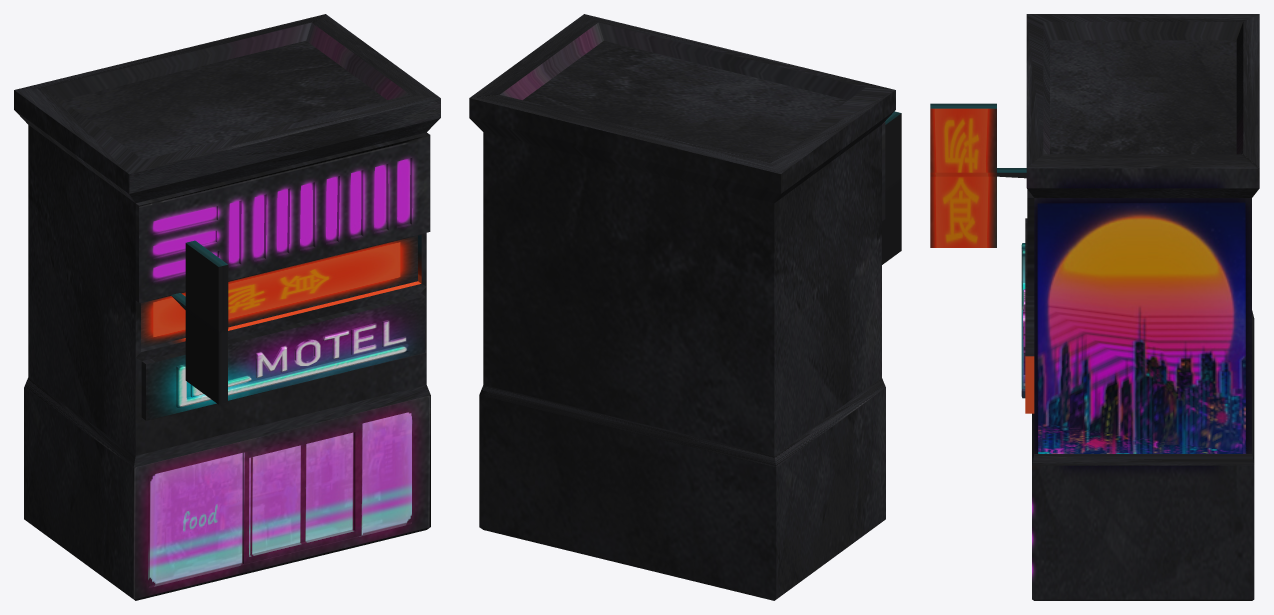
File: Building01.obj
3 renders of one model, left to right at view 1: azimuth 30°, elevation 25°; view 2: azimuth 150°, elevation 25°; view 3: azimuth 270°, elevation 25°, orthographic.
Visible parts, largest first — view 1: Cube; view 2: Cube; view 3: Cube.
Part boxes in pixels (x1,y1,x2,y2): Cube: (14, 14, 440, 600); Cube: (469, 14, 901, 600); Cube: (930, 14, 1259, 600).
Bounding box in the file's own units: 7.8 × 10.4 × 7.05.
Materials: 1 (1 with a texture image).
